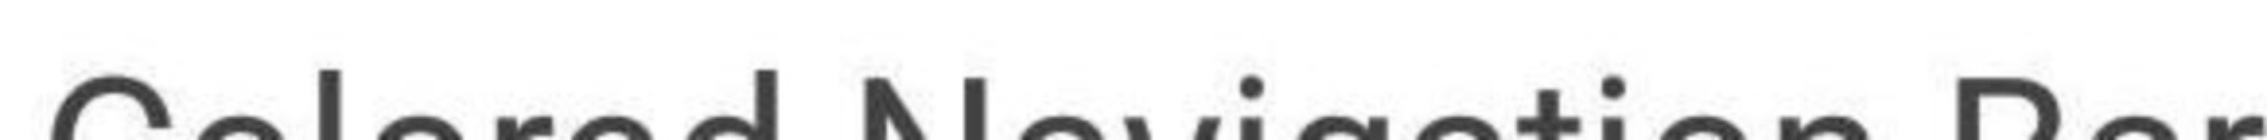TextView: (1, 1, 2266, 139)
